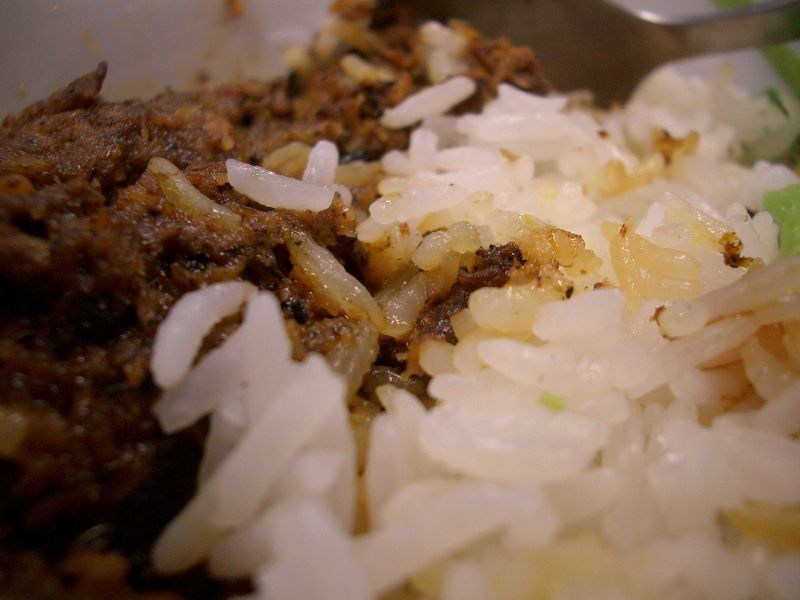Rendang: (157, 64, 683, 431)
